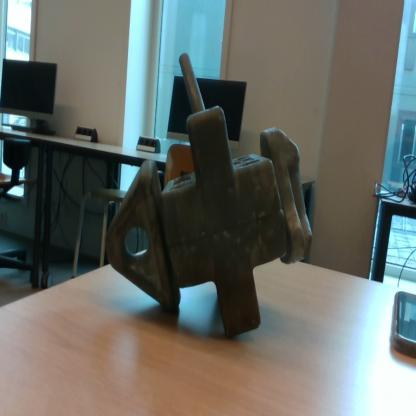Twistlock: (102, 49, 316, 344)
